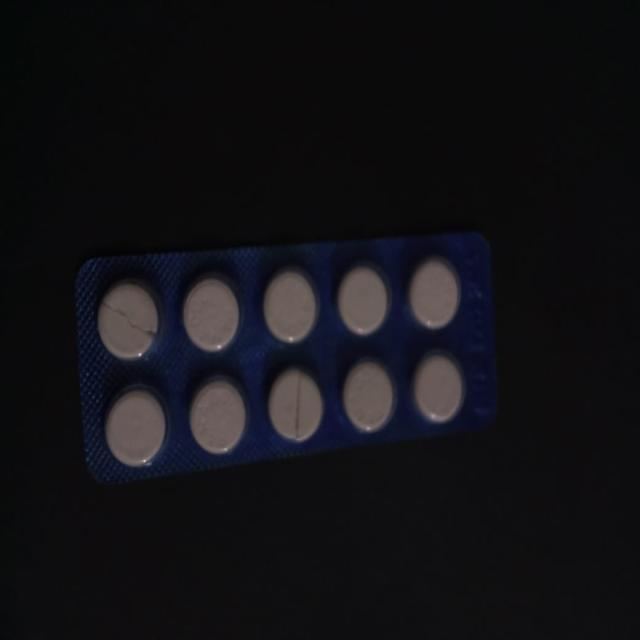defect: (95, 277, 163, 364), (265, 363, 327, 446)
